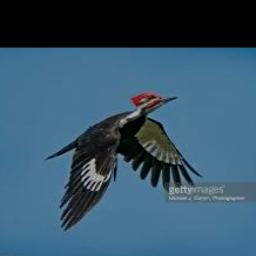Woodpecker: (45, 92, 203, 231)
